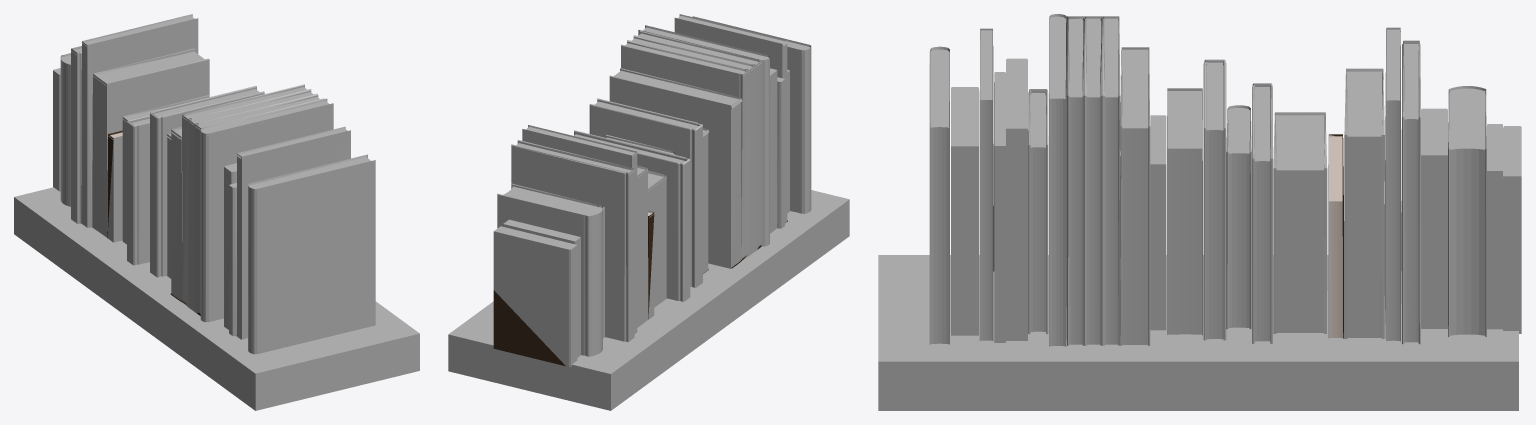
File: book 1.fbx
The picture shows the model from 3 angles, left to right: view 1: azimuth 30°, elevation 25°; view 2: azimuth 150°, elevation 25°; view 3: azimuth 270°, elevation 25°; orthographic projection. The views are drawn at different scales.
Visible parts, largest first — view 1: polySurface279, pCube22, polySurface300; view 2: polySurface279, pCube22, polySurface382, polySurface300; view 3: polySurface279, pCube22, polySurface278.
Part boxes in pixels (left/top/right/bottom): polySurface279: left=53, top=14, right=375, bottom=354; pCube22: left=14, top=187, right=419, bottom=410; polySurface300: left=107, top=134, right=113, bottom=237; polySurface279: left=493, top=14, right=811, bottom=367; pCube22: left=448, top=190, right=849, bottom=410; polySurface382: left=493, top=290, right=565, bottom=366; polySurface300: left=648, top=212, right=654, bottom=318; polySurface279: left=929, top=14, right=1521, bottom=346; pCube22: left=878, top=255, right=1518, bottom=410; polySurface278: left=1329, top=136, right=1342, bottom=338.
Bounding box in the file's own units: 1.66 × 2.18 × 4.23.
